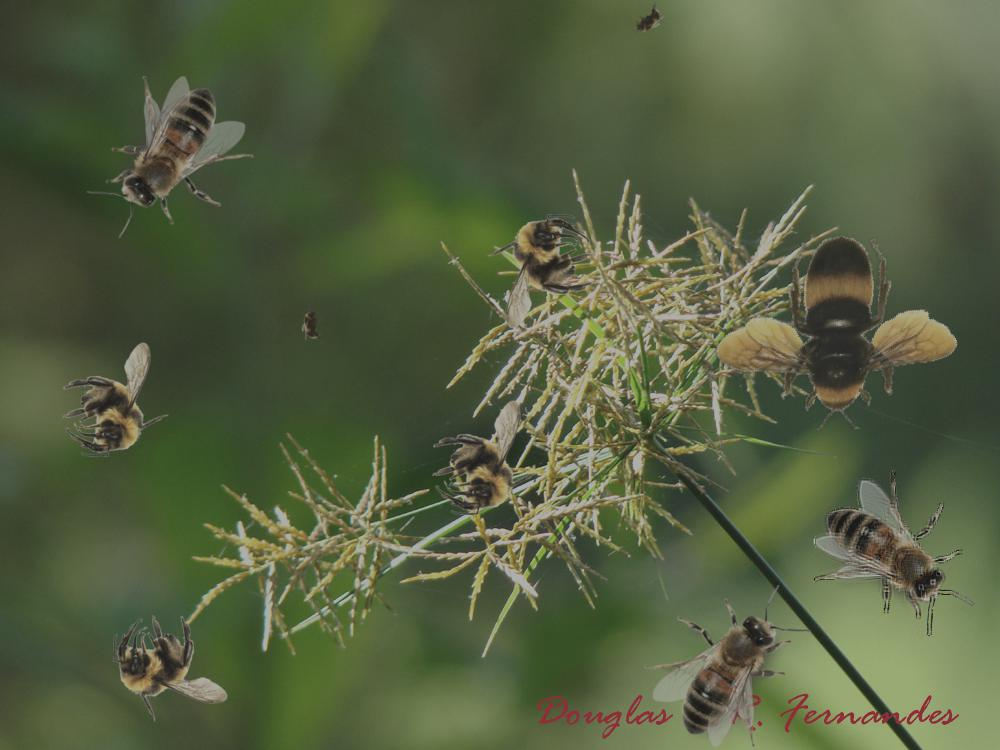Bee: (688, 200, 972, 473), (644, 585, 811, 747), (87, 76, 254, 238), (813, 470, 975, 637), (113, 615, 228, 722), (487, 214, 594, 329), (432, 400, 539, 515), (62, 342, 169, 457), (625, 0, 671, 42), (301, 304, 323, 344)
